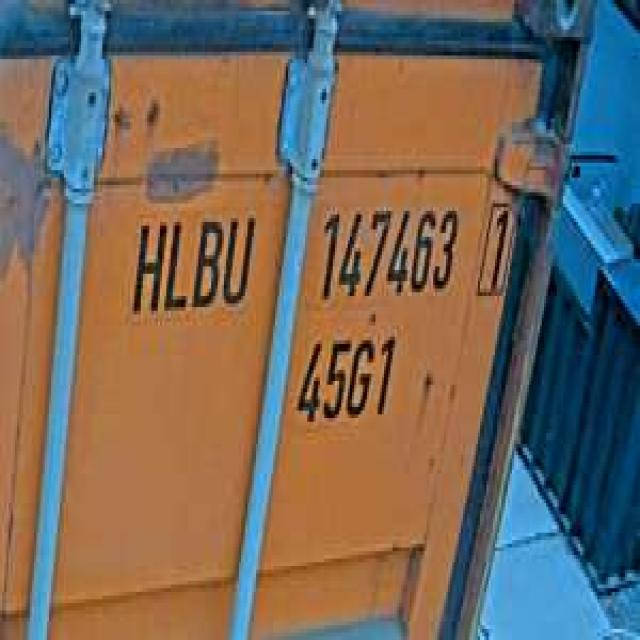dv: (474, 185, 518, 307)
owner: (126, 200, 258, 322)
serial: (316, 196, 461, 307)
size: (292, 322, 401, 429)
